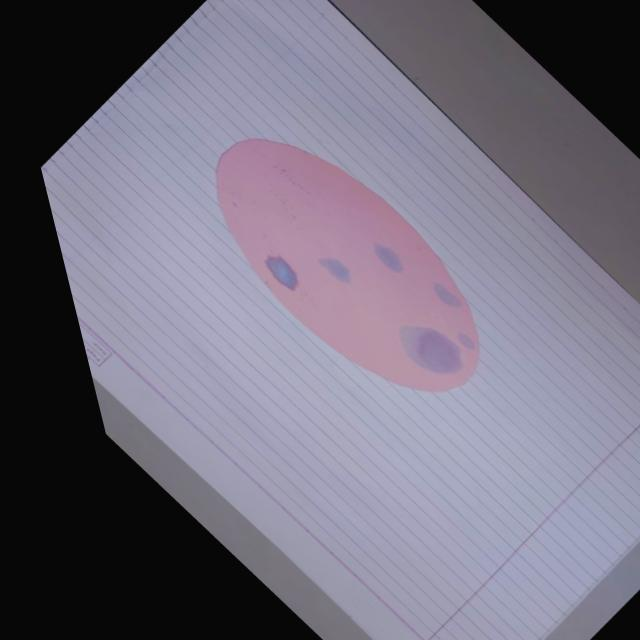BlueColor: (400, 325, 462, 374), (265, 256, 298, 290), (374, 243, 403, 272), (318, 257, 350, 282), (433, 282, 463, 307), (457, 332, 475, 350)
